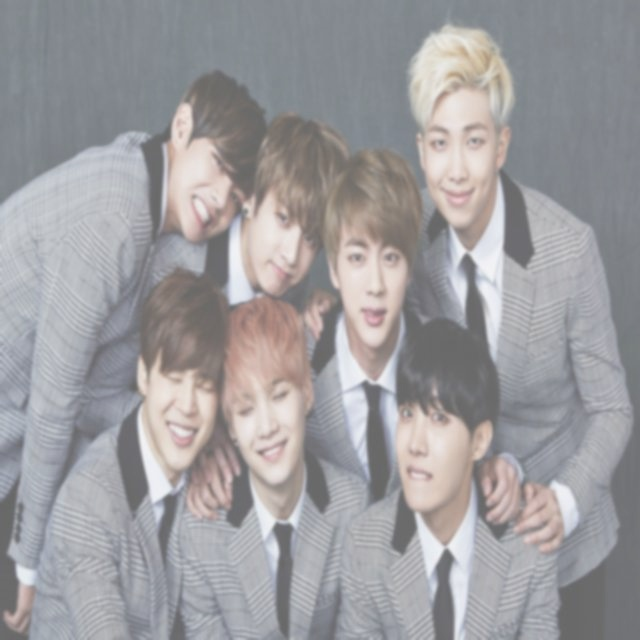pessoa: (297, 23, 635, 639), (0, 66, 274, 640), (304, 146, 523, 526), (26, 266, 234, 640), (331, 310, 565, 640), (177, 294, 374, 640), (148, 109, 352, 311)
